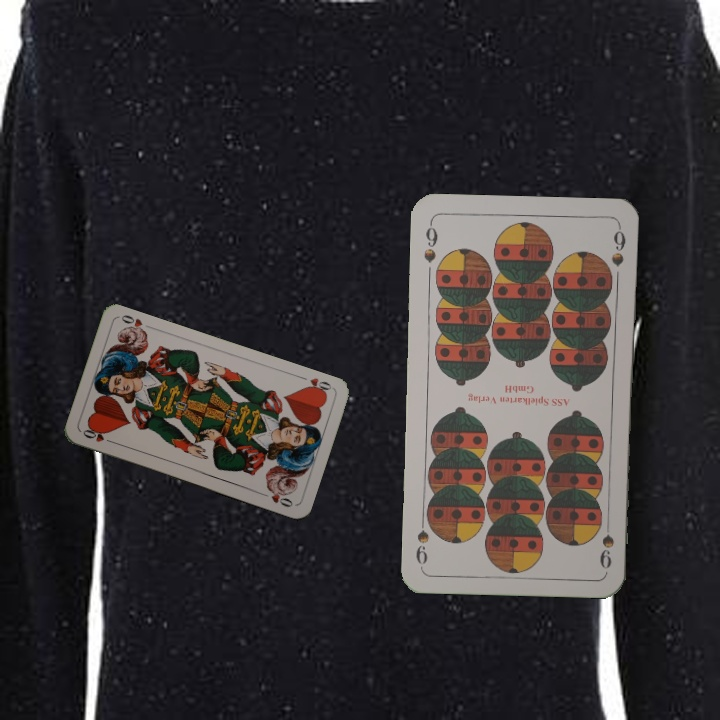HO: (295, 372, 334, 398), (79, 425, 118, 447)
S9: (596, 513, 617, 572), (419, 218, 441, 265)
